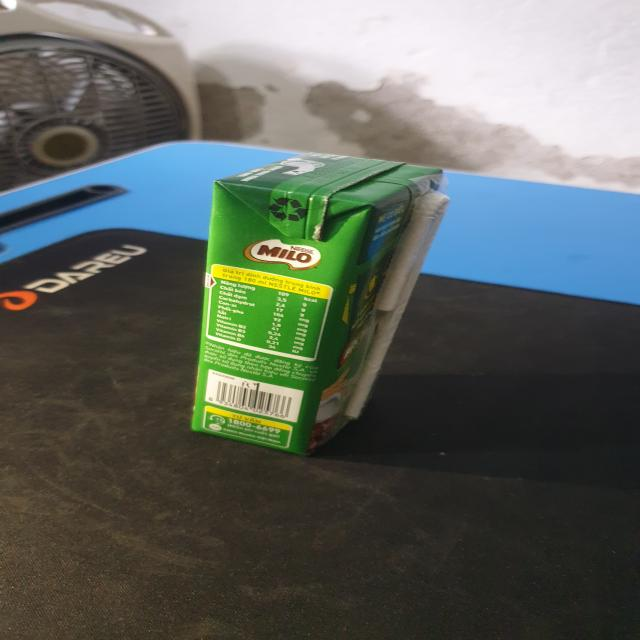Milo: (196, 162, 455, 454)
